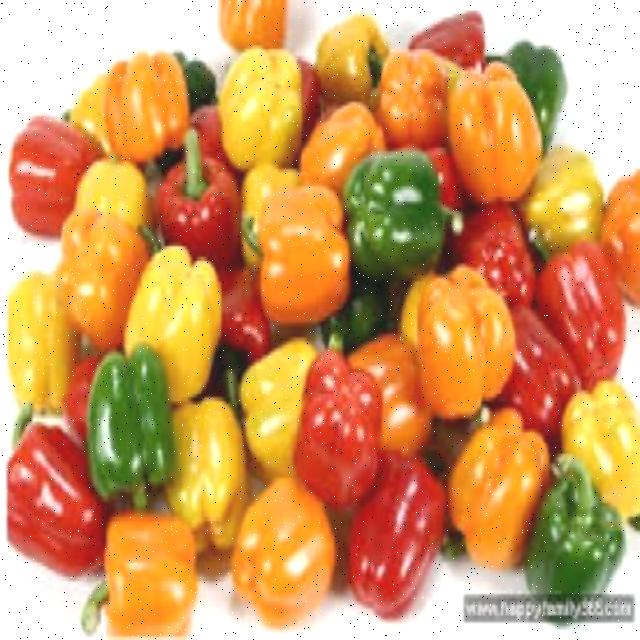Bell Pepper: (77, 340, 189, 528), (239, 173, 363, 318), (344, 152, 467, 280)
